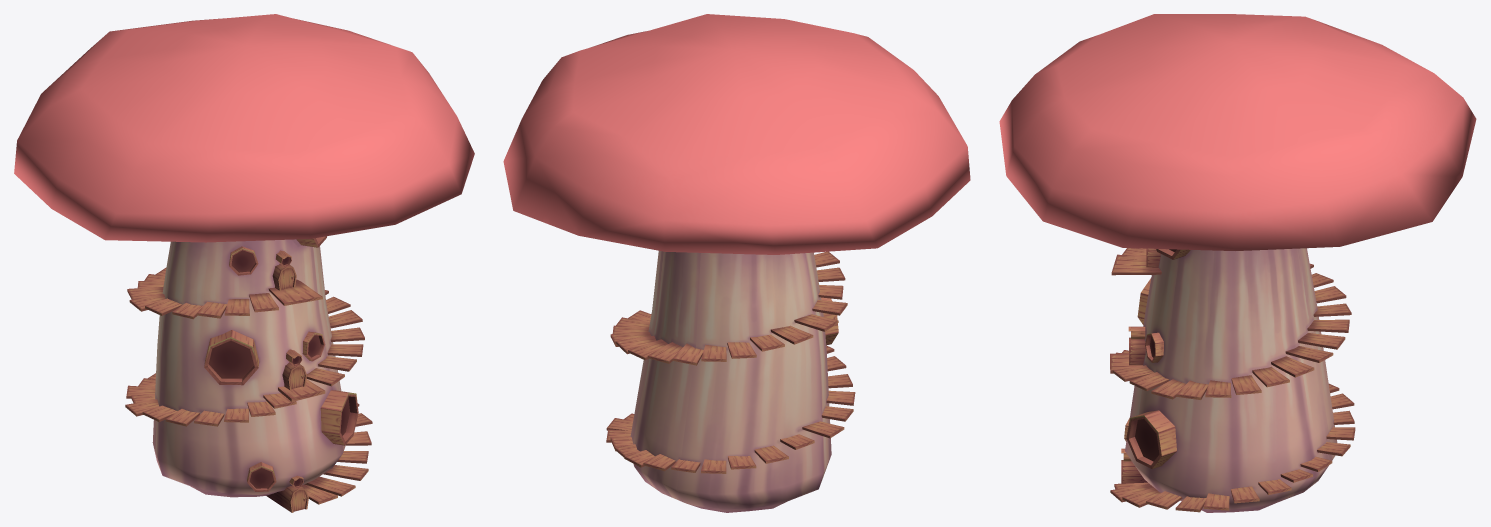
Rendered from MD_mushroom_home_L.fbx.
3 views of the same model, side by side, from view 1: azimuth 30°, elevation 25°; view 2: azimuth 150°, elevation 25°; view 3: azimuth 270°, elevation 25° (orthographic). The views are drawn at different scales.
Parts seen in each view (by area): view 1: pCone1, pCube2, pCylinder15, pCylinder14, pCube140, pCube3, pCylinder2, pCylinder19, pCube117, pCube4, pCube146, pCylinder18 (+1 smaller); view 2: pCone1, pCube2; view 3: pCone1, pCube2, pCylinder14, pCube140, pCube127.
Part boxes in pixels (x1,y1,x2,y2): pCone1: (14, 14, 474, 242); pCube2: (152, 239, 345, 497); pCylinder15: (204, 330, 259, 385); pCylinder14: (320, 390, 358, 445); pCube140: (268, 279, 322, 305); pCube3: (266, 485, 308, 512); pCylinder2: (247, 462, 276, 491); pCylinder19: (229, 246, 258, 275); pCube117: (278, 379, 325, 401); pCube4: (304, 476, 355, 496); pCube146: (282, 362, 306, 390); pCylinder18: (302, 331, 325, 361); pCone1: (503, 14, 970, 254); pCube2: (630, 250, 831, 512); pCone1: (999, 14, 1476, 250); pCube2: (1125, 248, 1337, 512); pCylinder14: (1126, 410, 1176, 468); pCube140: (1111, 254, 1161, 275); pCube127: (1298, 333, 1345, 349).
Size of the model in its own units: 2398 by 2492 by 2434.
1 material, 1 textured.
